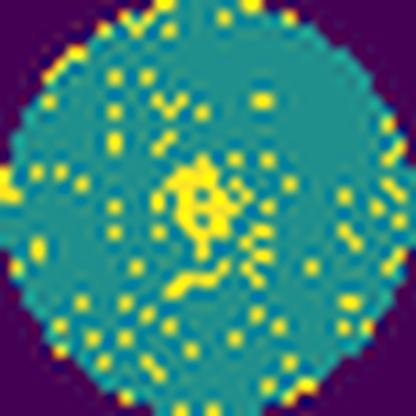Center: (151, 155, 238, 263)
